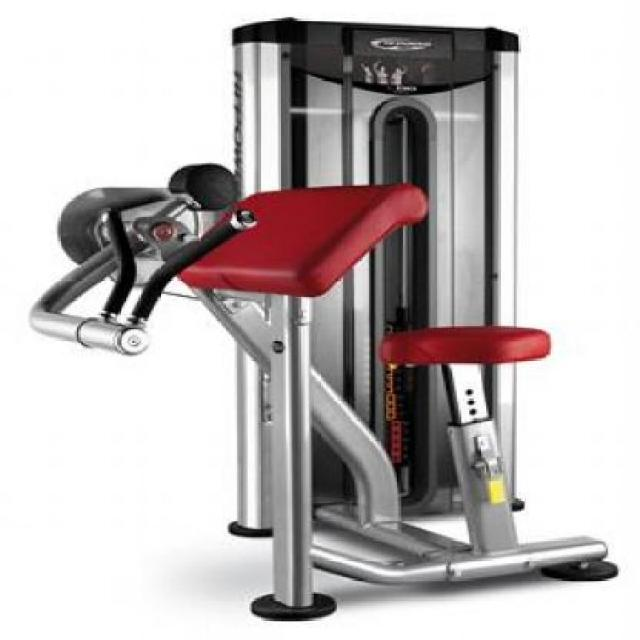arm curl machine: (29, 17, 618, 625)
